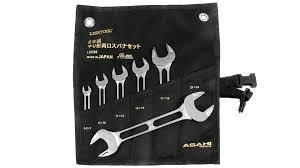wrench: (87, 89, 215, 158), (150, 41, 176, 83), (130, 55, 149, 93), (109, 63, 128, 99), (93, 71, 108, 105), (79, 83, 91, 109)
